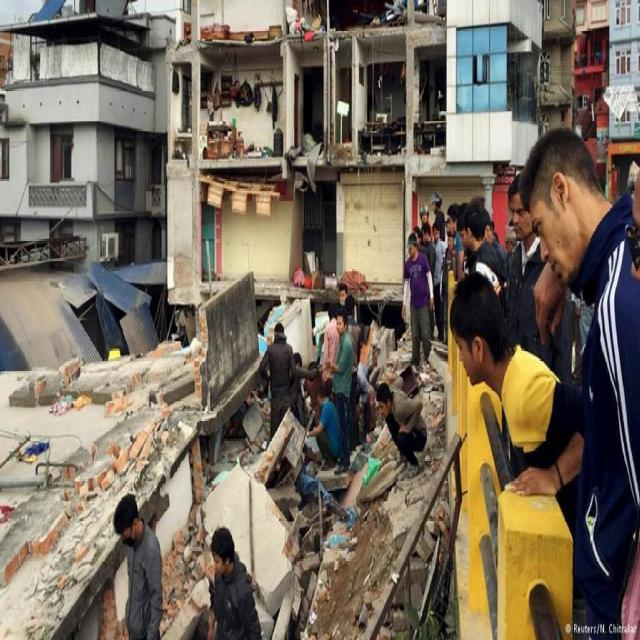Person: (113, 125, 640, 640)
